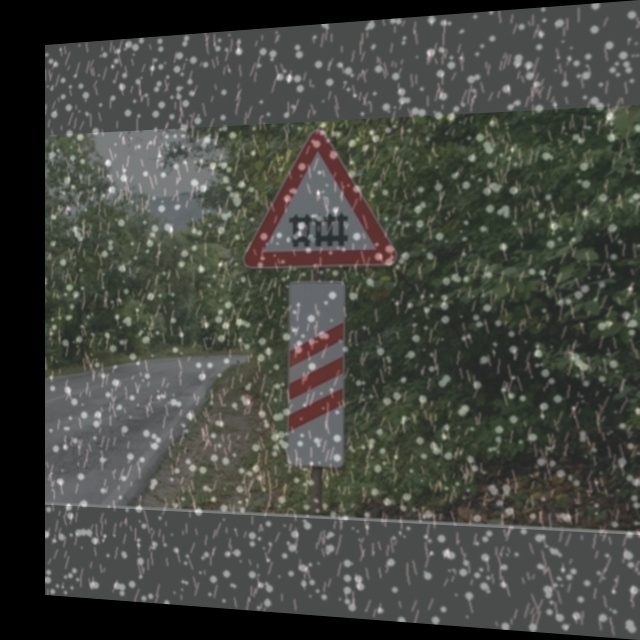Guarded_Level_Crossing: (244, 127, 399, 267)
